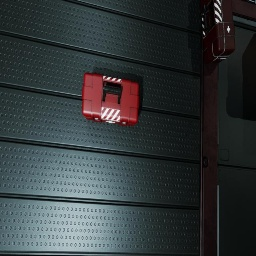FirstAidBox ,: (82, 72, 139, 126), (200, 0, 235, 64)
